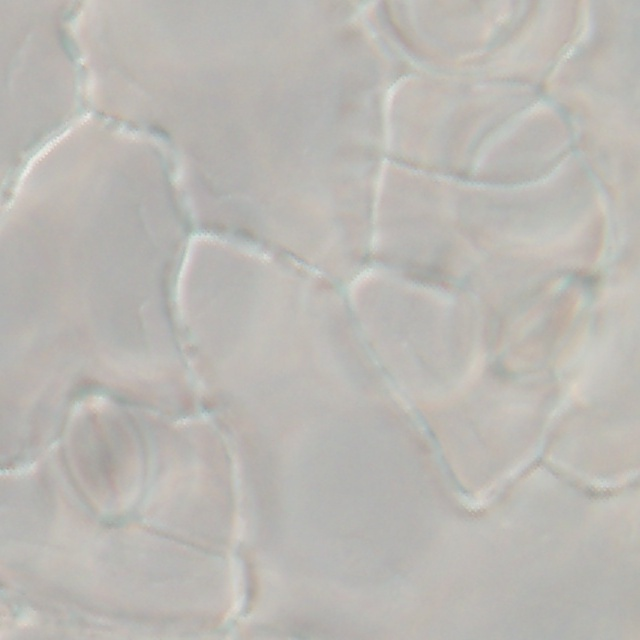center: (502, 281, 564, 352), (87, 414, 119, 482)
stomata-huw1: (463, 251, 601, 383), (48, 388, 156, 525)
